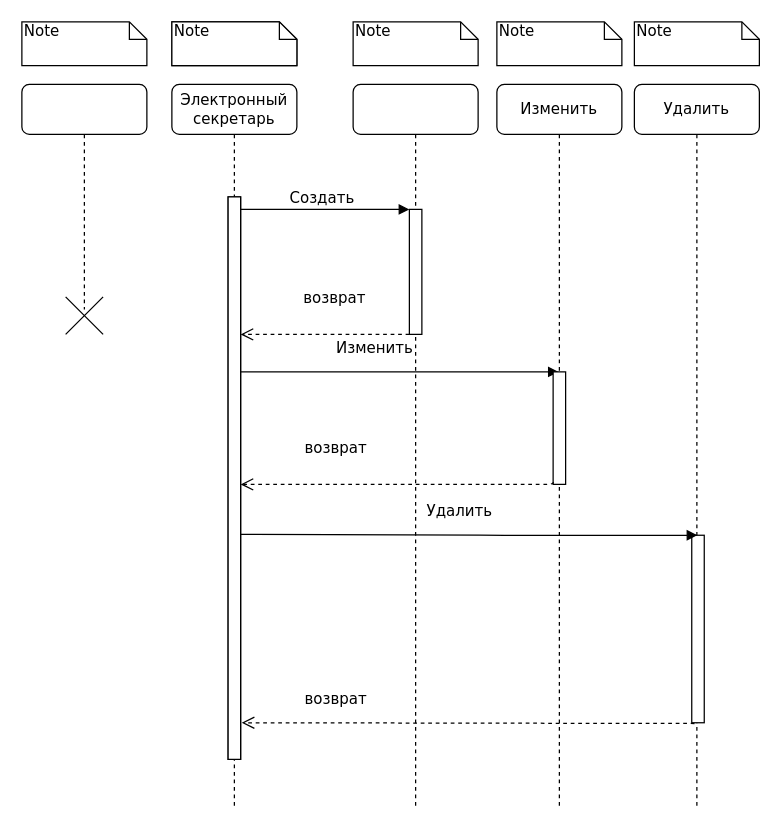
The diagram is 781 pixels wide and 831 high, and some of its shapes have lost their labels. The shapes that lost their labels are listed below. From the top down, each one's box as (x1, y1, x2, y2) in pixels, then its label:
(21, 83, 147, 309): Пользователь
(352, 83, 478, 809): Создать напоминание
